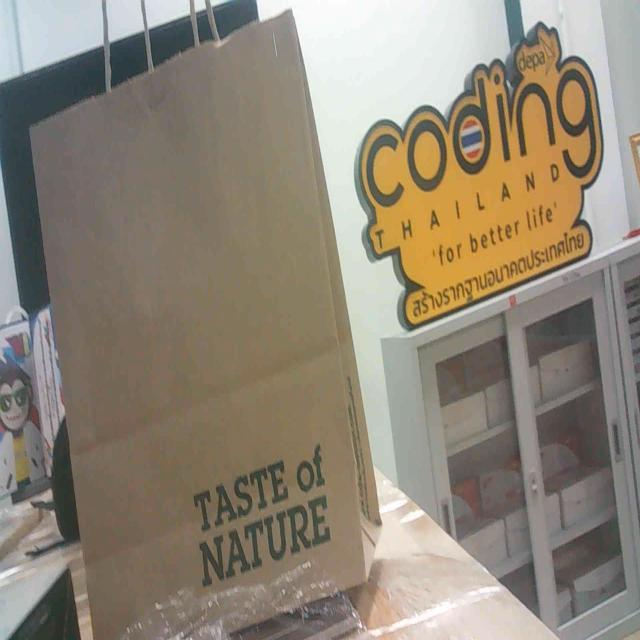bag: (22, 8, 395, 640)
